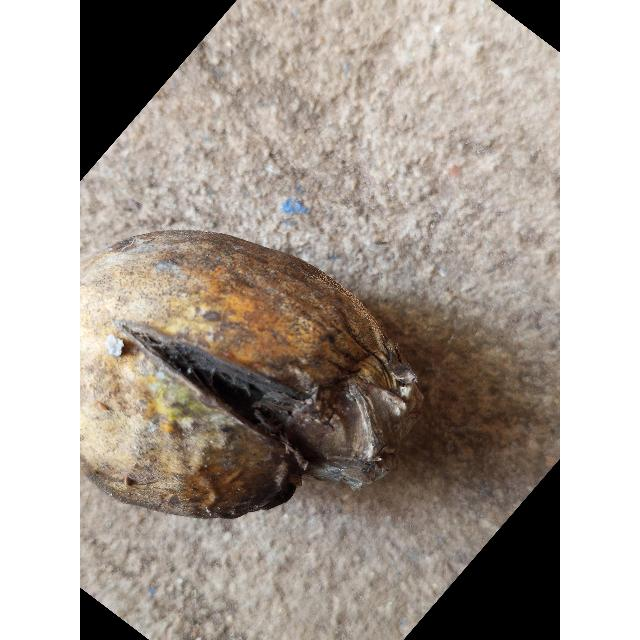damaged: (80, 226, 435, 523)
